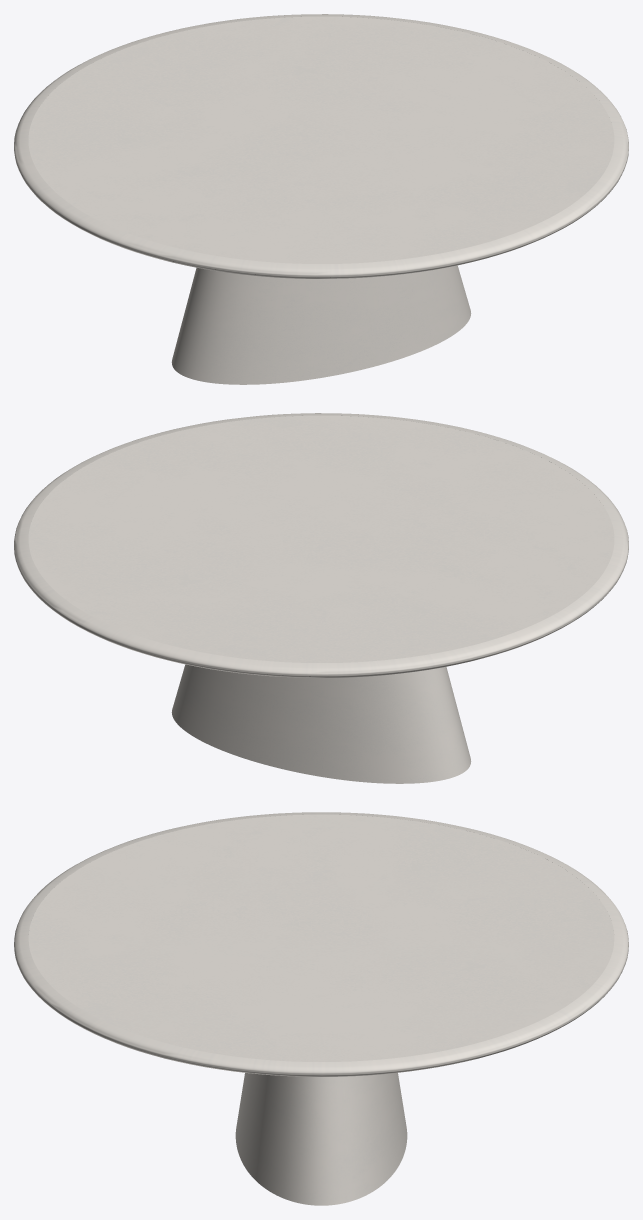
The model's file is pearlwhite_round_round_eqone.glb.
3 views of the same model, one above another, from view 1: azimuth 30°, elevation 25°; view 2: azimuth 150°, elevation 25°; view 3: azimuth 270°, elevation 25° (orthographic).
Visible parts, largest first — view 1: round_round, eqone; view 2: round_round, eqone; view 3: round_round, eqone.
Part boxes in pixels (x1=…): round_round: x1=14, y1=14, x2=628, y2=278; eqone: x1=171, y1=265, x2=471, y2=384; round_round: x1=14, y1=413, x2=628, y2=677; eqone: x1=171, y1=664, x2=471, y2=783; round_round: x1=14, y1=812, x2=628, y2=1076; eqone: x1=235, y1=1073, x2=407, y2=1205.
Bounding box in the file's own units: 7.09 × 2.51 × 7.09.
1 material, 1 textured.
